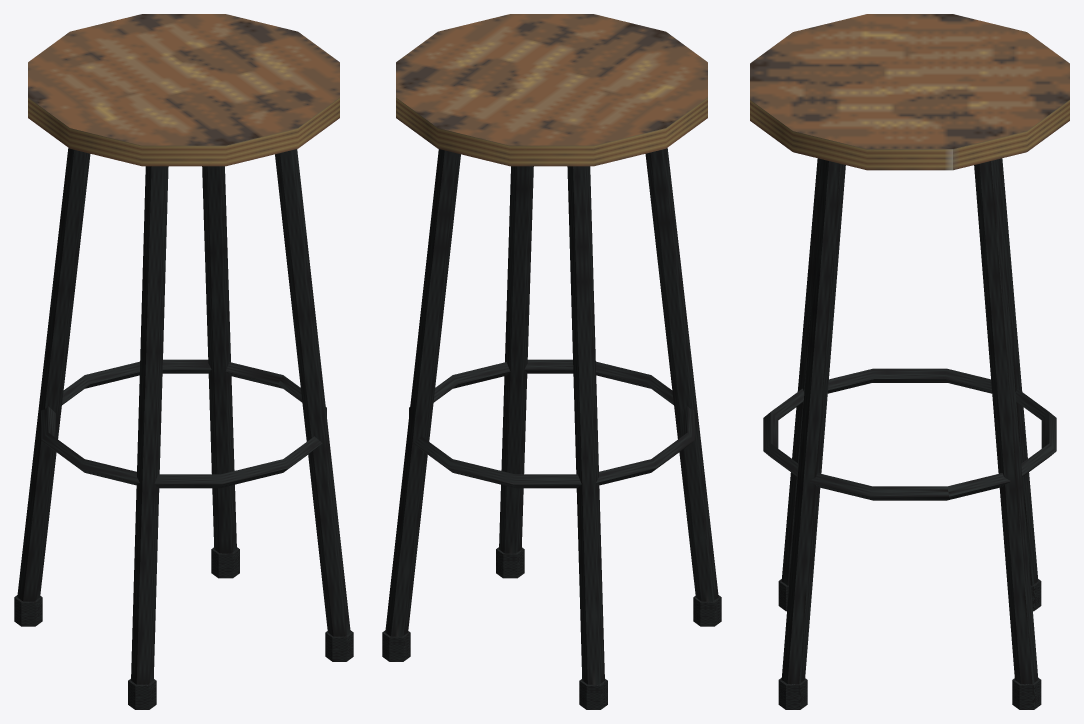
File: SKC-PSX_08_ShopStool.fbx
The picture shows the model from 3 angles, left to right: view 1: azimuth 30°, elevation 25°; view 2: azimuth 150°, elevation 25°; view 3: azimuth 270°, elevation 25°; orthographic projection. The views are drawn at different scales.
Parts seen in each view (by area): view 1: SKC-PSX_08_ShopStool; view 2: SKC-PSX_08_ShopStool; view 3: SKC-PSX_08_ShopStool.
Part boxes in pixels (x1,y1,x2,y2): SKC-PSX_08_ShopStool: (14, 14, 353, 709); SKC-PSX_08_ShopStool: (382, 14, 721, 709); SKC-PSX_08_ShopStool: (750, 14, 1069, 709).
Bounding box in the file's own units: 32.84 × 65 × 32.84.
1 material, 1 textured.
